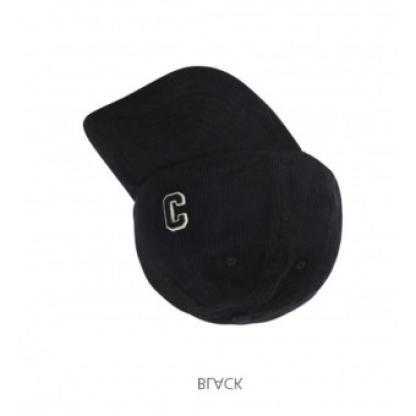cap: (72, 63, 352, 332)
